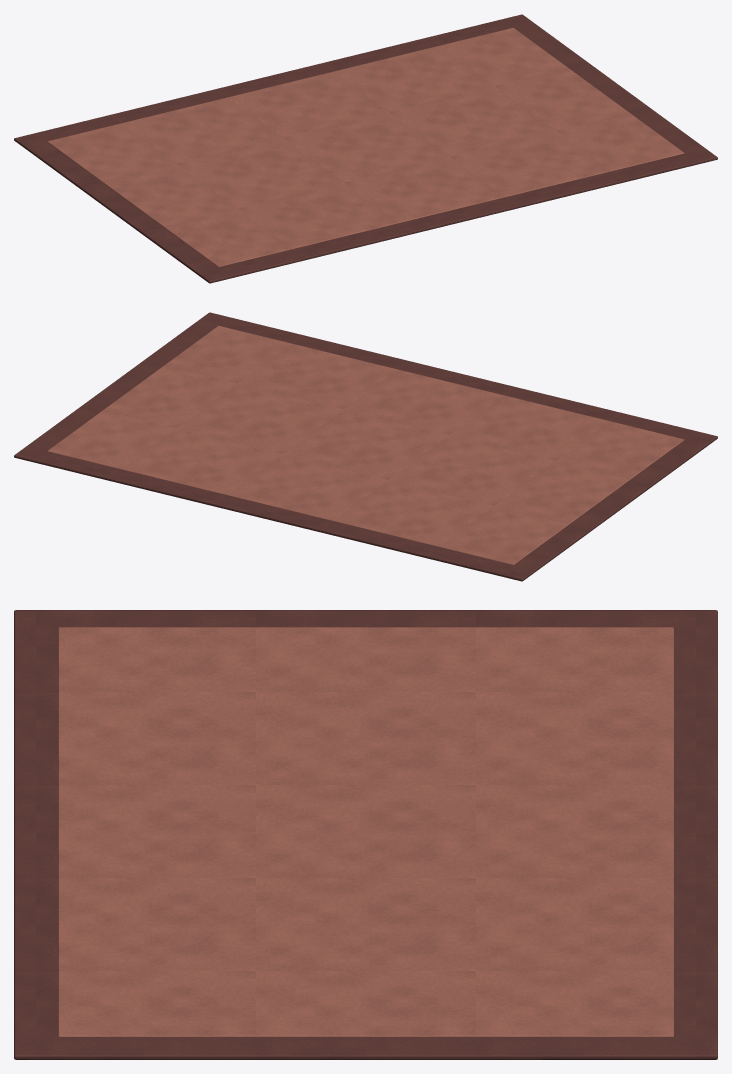
File: mueble.alfombra.fbx
3 renders of one model, top to bottom at view 1: azimuth 30°, elevation 25°; view 2: azimuth 150°, elevation 25°; view 3: azimuth 270°, elevation 25°, orthographic. The views are drawn at different scales.
Visible parts, largest first — view 1: Centro, Borde; view 2: Centro, Borde; view 3: Centro, Borde.
Part boxes in pixels (x1,y1,x2,y2): Centro: (47, 27, 684, 267); Borde: (14, 14, 717, 283); Centro: (47, 325, 684, 565); Borde: (14, 312, 717, 581); Centro: (58, 627, 673, 1036); Borde: (14, 610, 717, 1059).
Size of the model in its own units: 2.4 by 0.015 by 1.6.
Materials: 2 (2 with a texture image).
